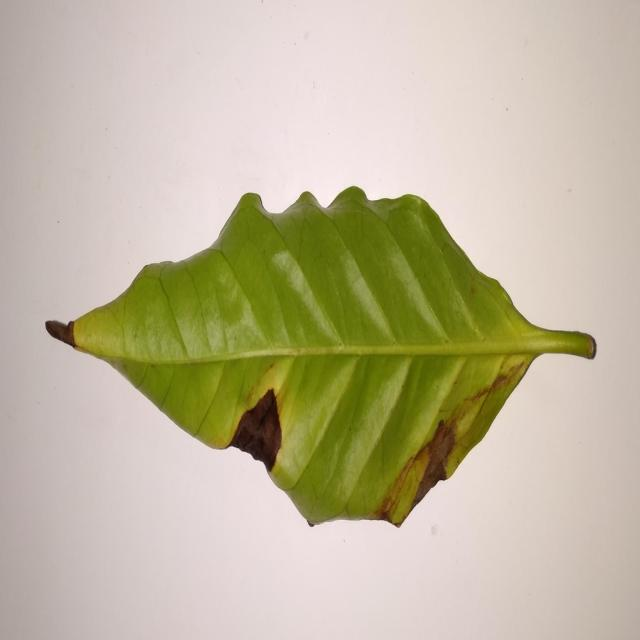Enfermedad-Antracnosis: (44, 187, 598, 531)
